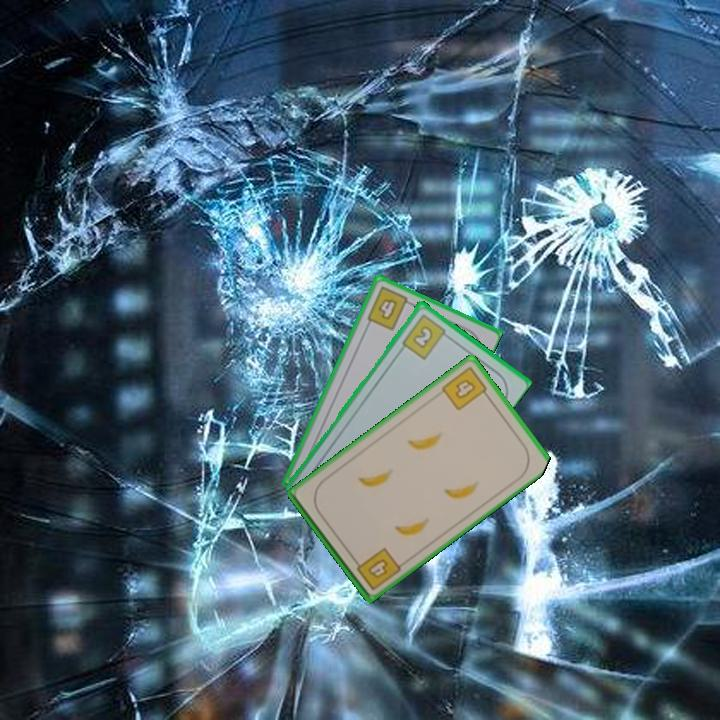2b: (398, 310, 452, 362)
4b: (438, 363, 493, 413), (349, 543, 404, 593), (363, 283, 416, 333)
